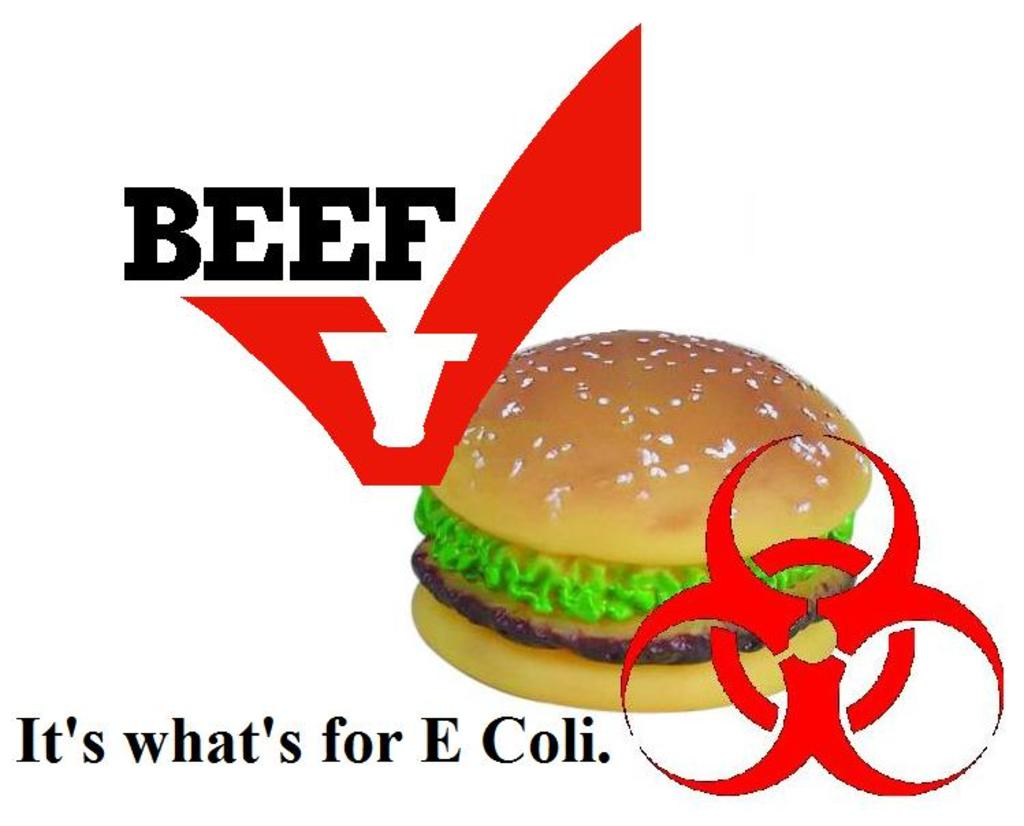Hamburger: (408, 328, 872, 708)
